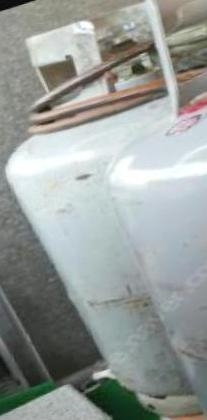cylinder: (1, 1, 207, 420)
